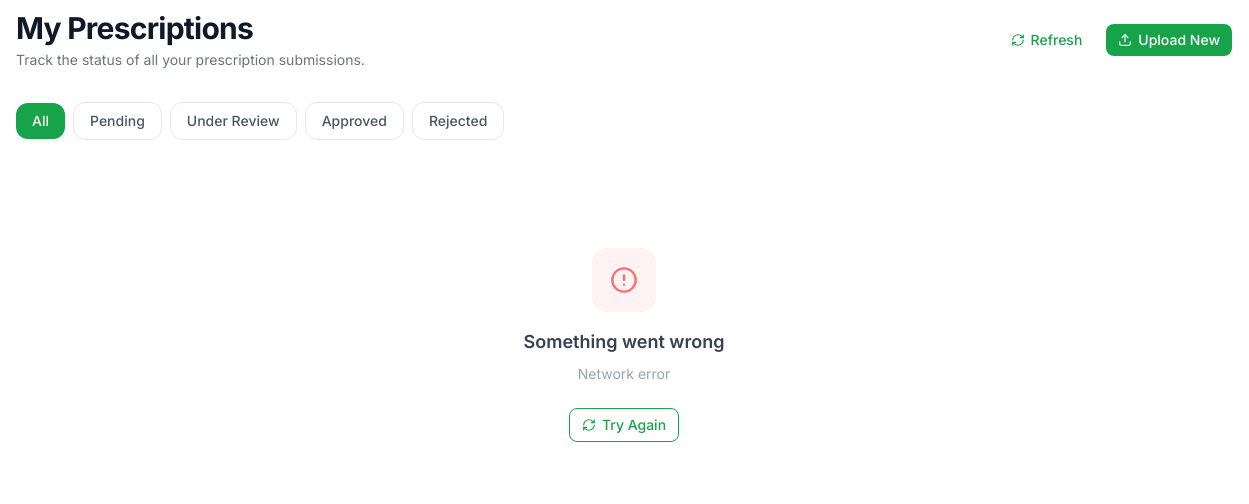
Test: Error state › retries fetch when "Try Again" is clicked
expect the element with test id "error-state" is shown: met, box x1=524 y1=248 x2=724 y2=442
Click the button "Try Again": (624, 425) x1=569 y1=408 x2=679 y2=442
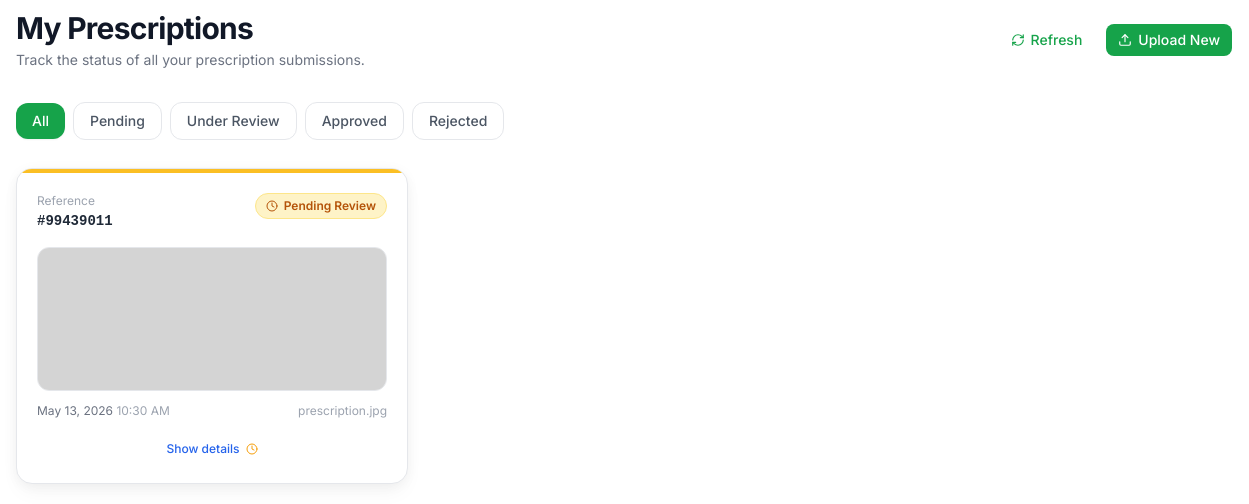
expect the element with test id "prescriptions-grid" is shown: met, box x1=16 y1=168 x2=408 y2=484
